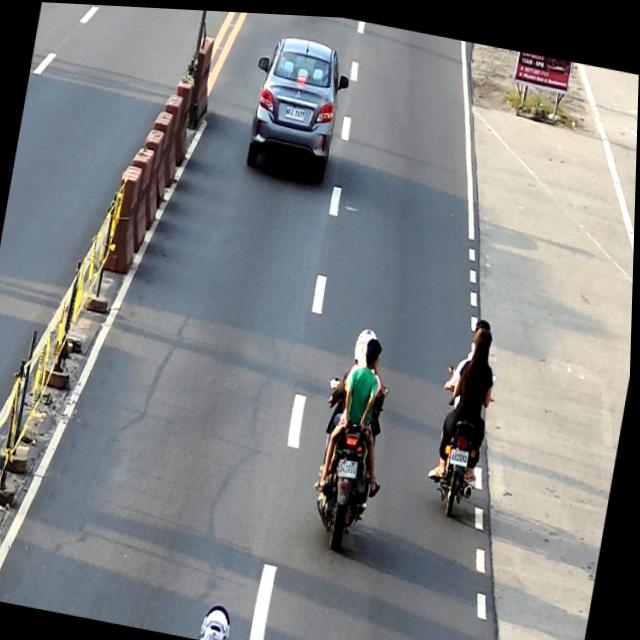Car: (241, 28, 355, 184)
License-Plate: (340, 457, 361, 475), (452, 444, 471, 462), (285, 102, 306, 118)
Motorcycle: (306, 368, 393, 552), (426, 356, 501, 516)
